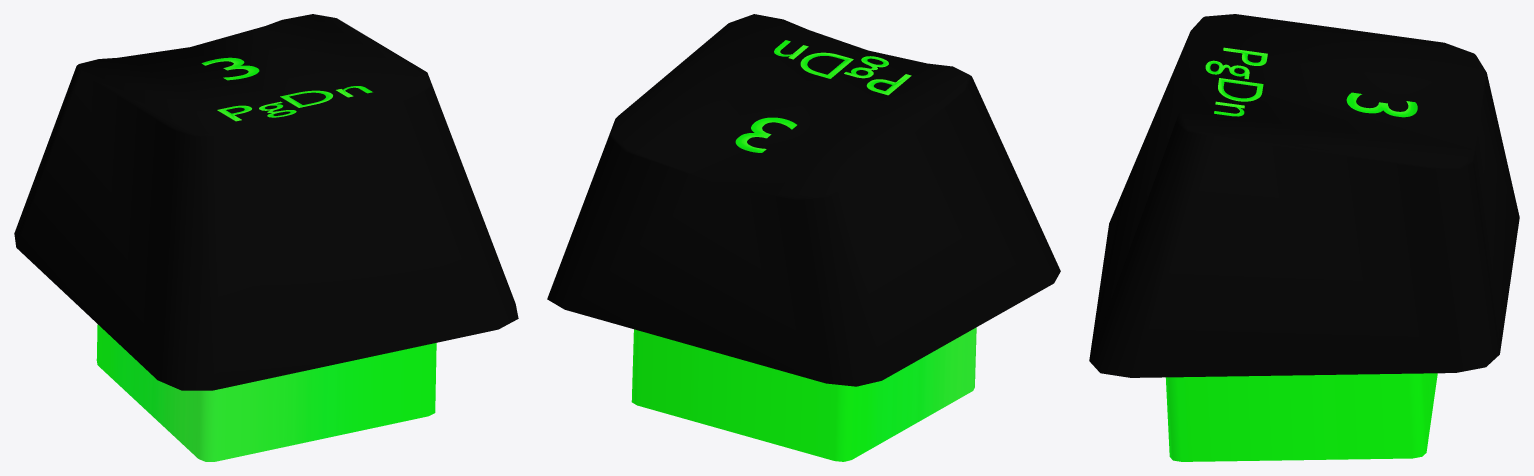
Rendered from key_3_pg_dn-Byp-Vwqi.glb.
The picture shows the model from 3 angles, left to right: view 1: azimuth 30°, elevation 25°; view 2: azimuth 150°, elevation 25°; view 3: azimuth 270°, elevation 25°; orthographic projection. The views are drawn at different scales.
Parts seen in each view (by area): view 1: StudyShelf_377; view 2: StudyShelf_377; view 3: StudyShelf_377.
Part boxes in pixels (left/top/right/bottom): StudyShelf_377: left=14, top=14, right=518, bottom=461; StudyShelf_377: left=547, top=14, right=1060, bottom=461; StudyShelf_377: left=1089, top=14, right=1519, bottom=461.
Bounding box in the file's own units: 4.35 × 3.71 × 4.35.
Materials: 2 (1 with a texture image).
